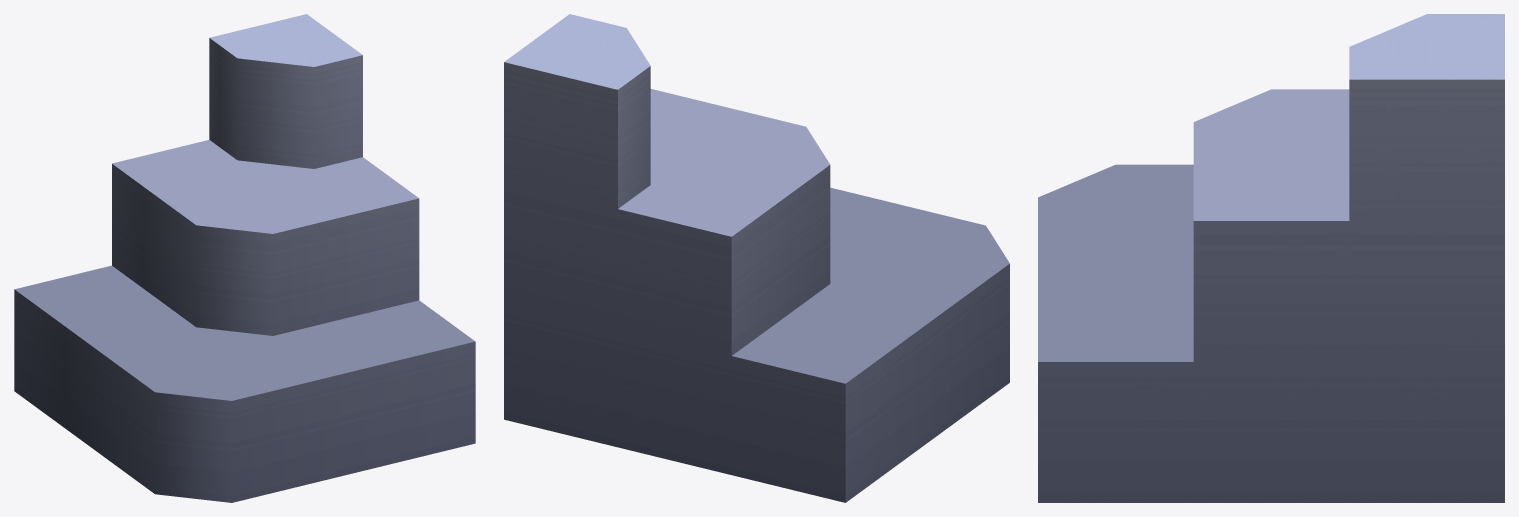
The model's file is stairs-small-corner.glb.
3 renders of one model, left to right at view 1: azimuth 30°, elevation 25°; view 2: azimuth 150°, elevation 25°; view 3: azimuth 270°, elevation 25°, orthographic. The views are drawn at different scales.
Parts seen in each view (by area): view 1: stairs-small-corner; view 2: stairs-small-corner; view 3: stairs-small-corner.
Boxes of the visible parts, x1,y1,x2,y2 form: stairs-small-corner: [14, 14, 475, 502]; stairs-small-corner: [504, 14, 1009, 502]; stairs-small-corner: [1038, 14, 1504, 502].
Bounding box in the file's own units: 0.3 × 0.3 × 0.3.
1 material, 1 textured.
